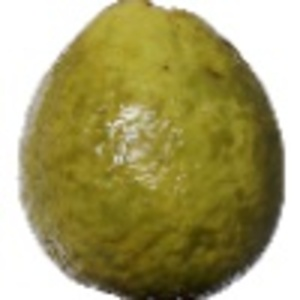goiaba: (10, 2, 292, 298)
